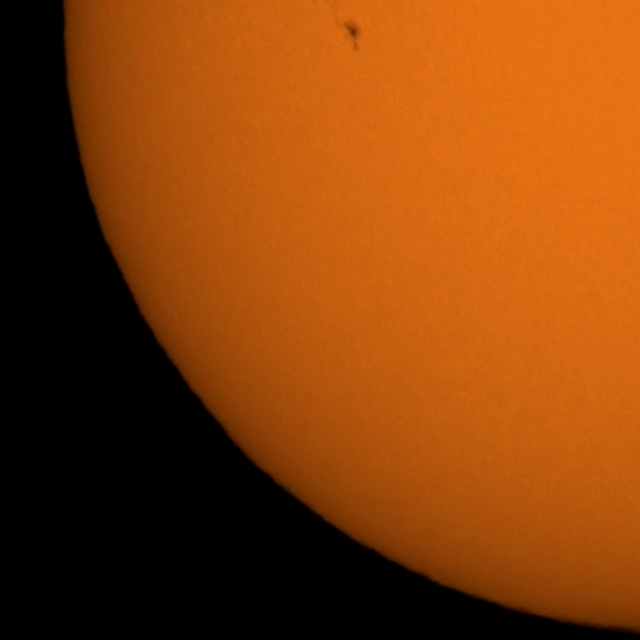sunspot: (335, 16, 361, 54)
